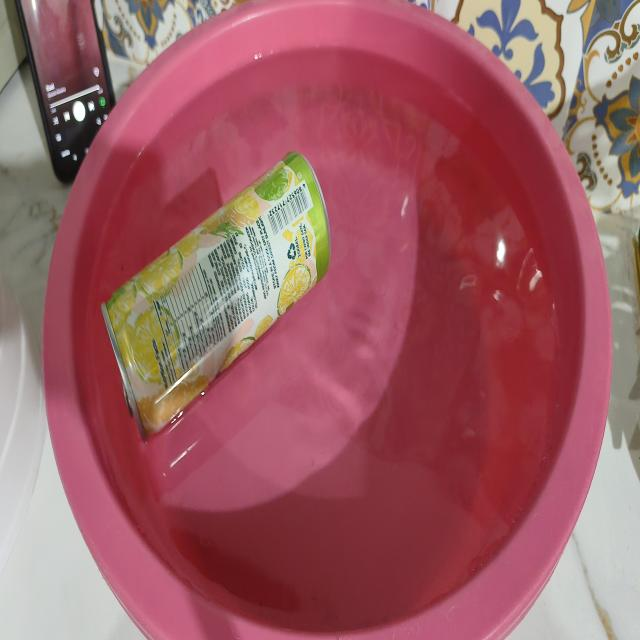Aluminum Can: (101, 152, 332, 439)
